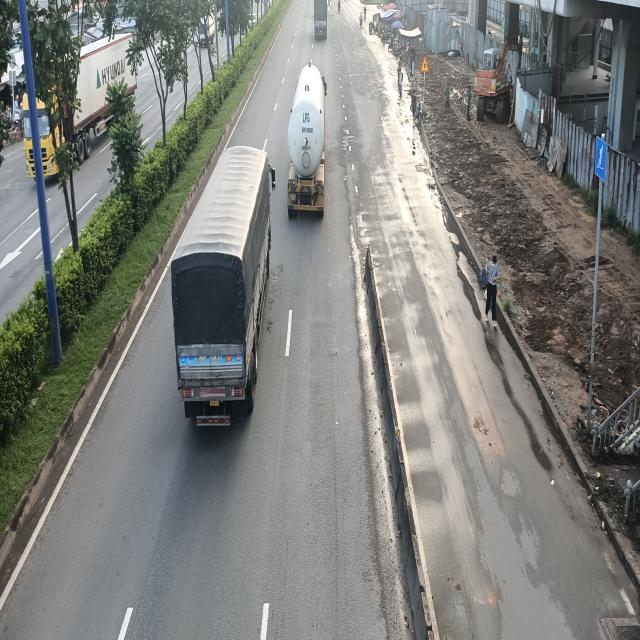truck: (165, 144, 270, 430), (286, 62, 328, 219), (313, 0, 329, 40)
